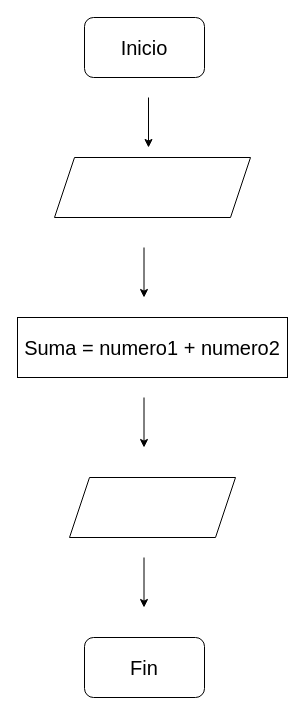
This 305x715 diagram has some shape labels left out. Here are the shapes that lost their labels. From the top down, the centre of each, then its label:
At point (152, 187): "Leer numero1, numero2".
At point (152, 507): "Escribir suma".
